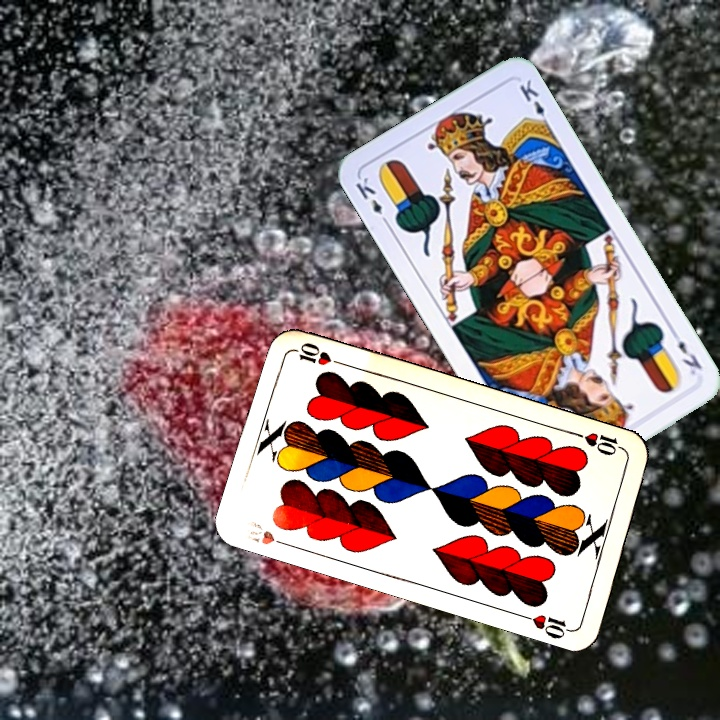EK: (351, 173, 392, 229), (666, 325, 705, 378)
H10: (243, 516, 295, 550), (571, 428, 628, 459)
